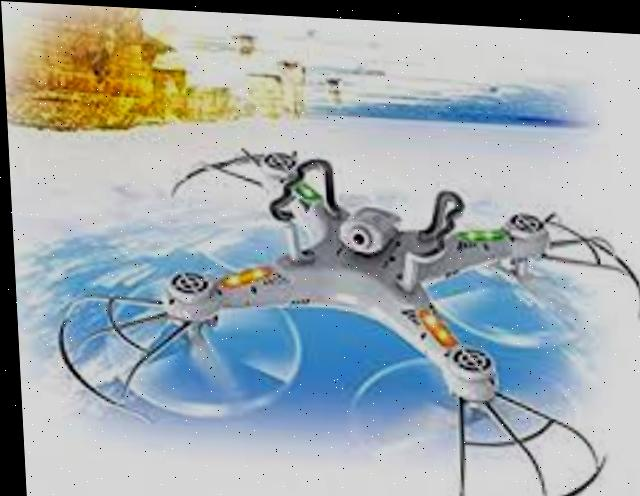drone: (35, 120, 640, 496)
